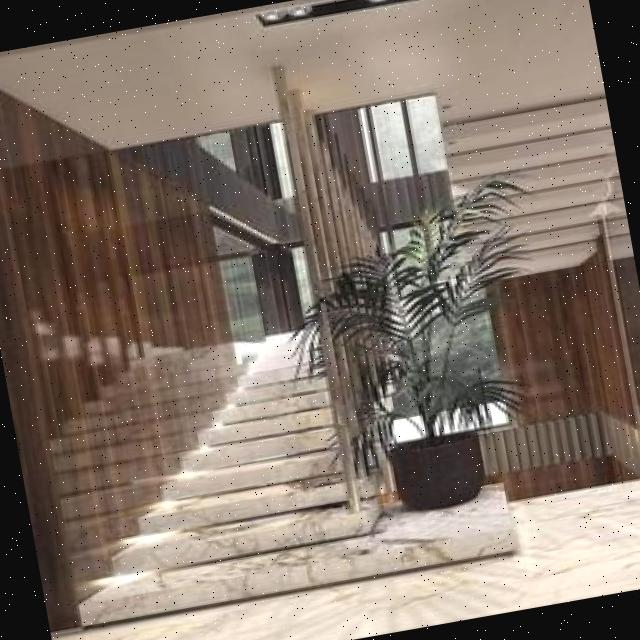stairs: (31, 294, 518, 630)
